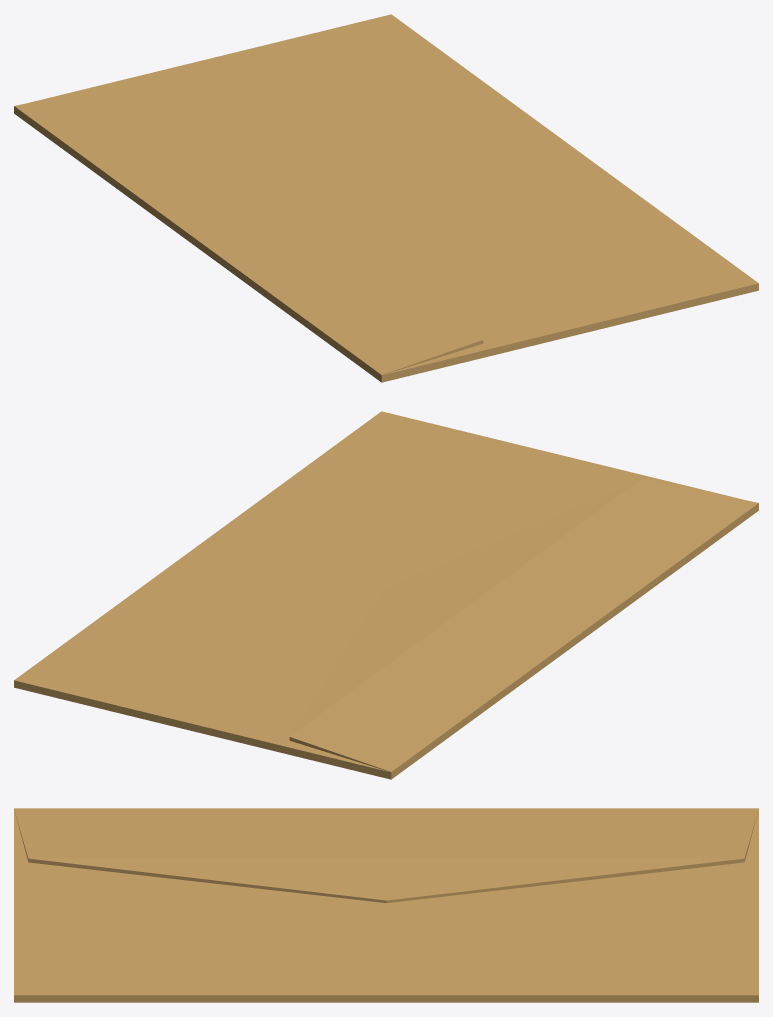
File: envelope.glb
3 views of the same model, one above another, from view 1: azimuth 30°, elevation 25°; view 2: azimuth 150°, elevation 25°; view 3: azimuth 270°, elevation 25° (orthographic).
Visible parts, largest first — view 1: Plane, Plane.001; view 2: Plane, Plane.001; view 3: Plane, Plane.001.
Boxes of the visible parts, x1,y1,x2,y2 form: Plane: [31, 14, 758, 382]; Plane.001: [14, 81, 483, 382]; Plane: [14, 411, 741, 779]; Plane.001: [289, 478, 758, 779]; Plane: [14, 809, 758, 1002]; Plane.001: [14, 808, 758, 902].
Bounding box in the file's own units: 2.37 × 0.0668 × 4.
